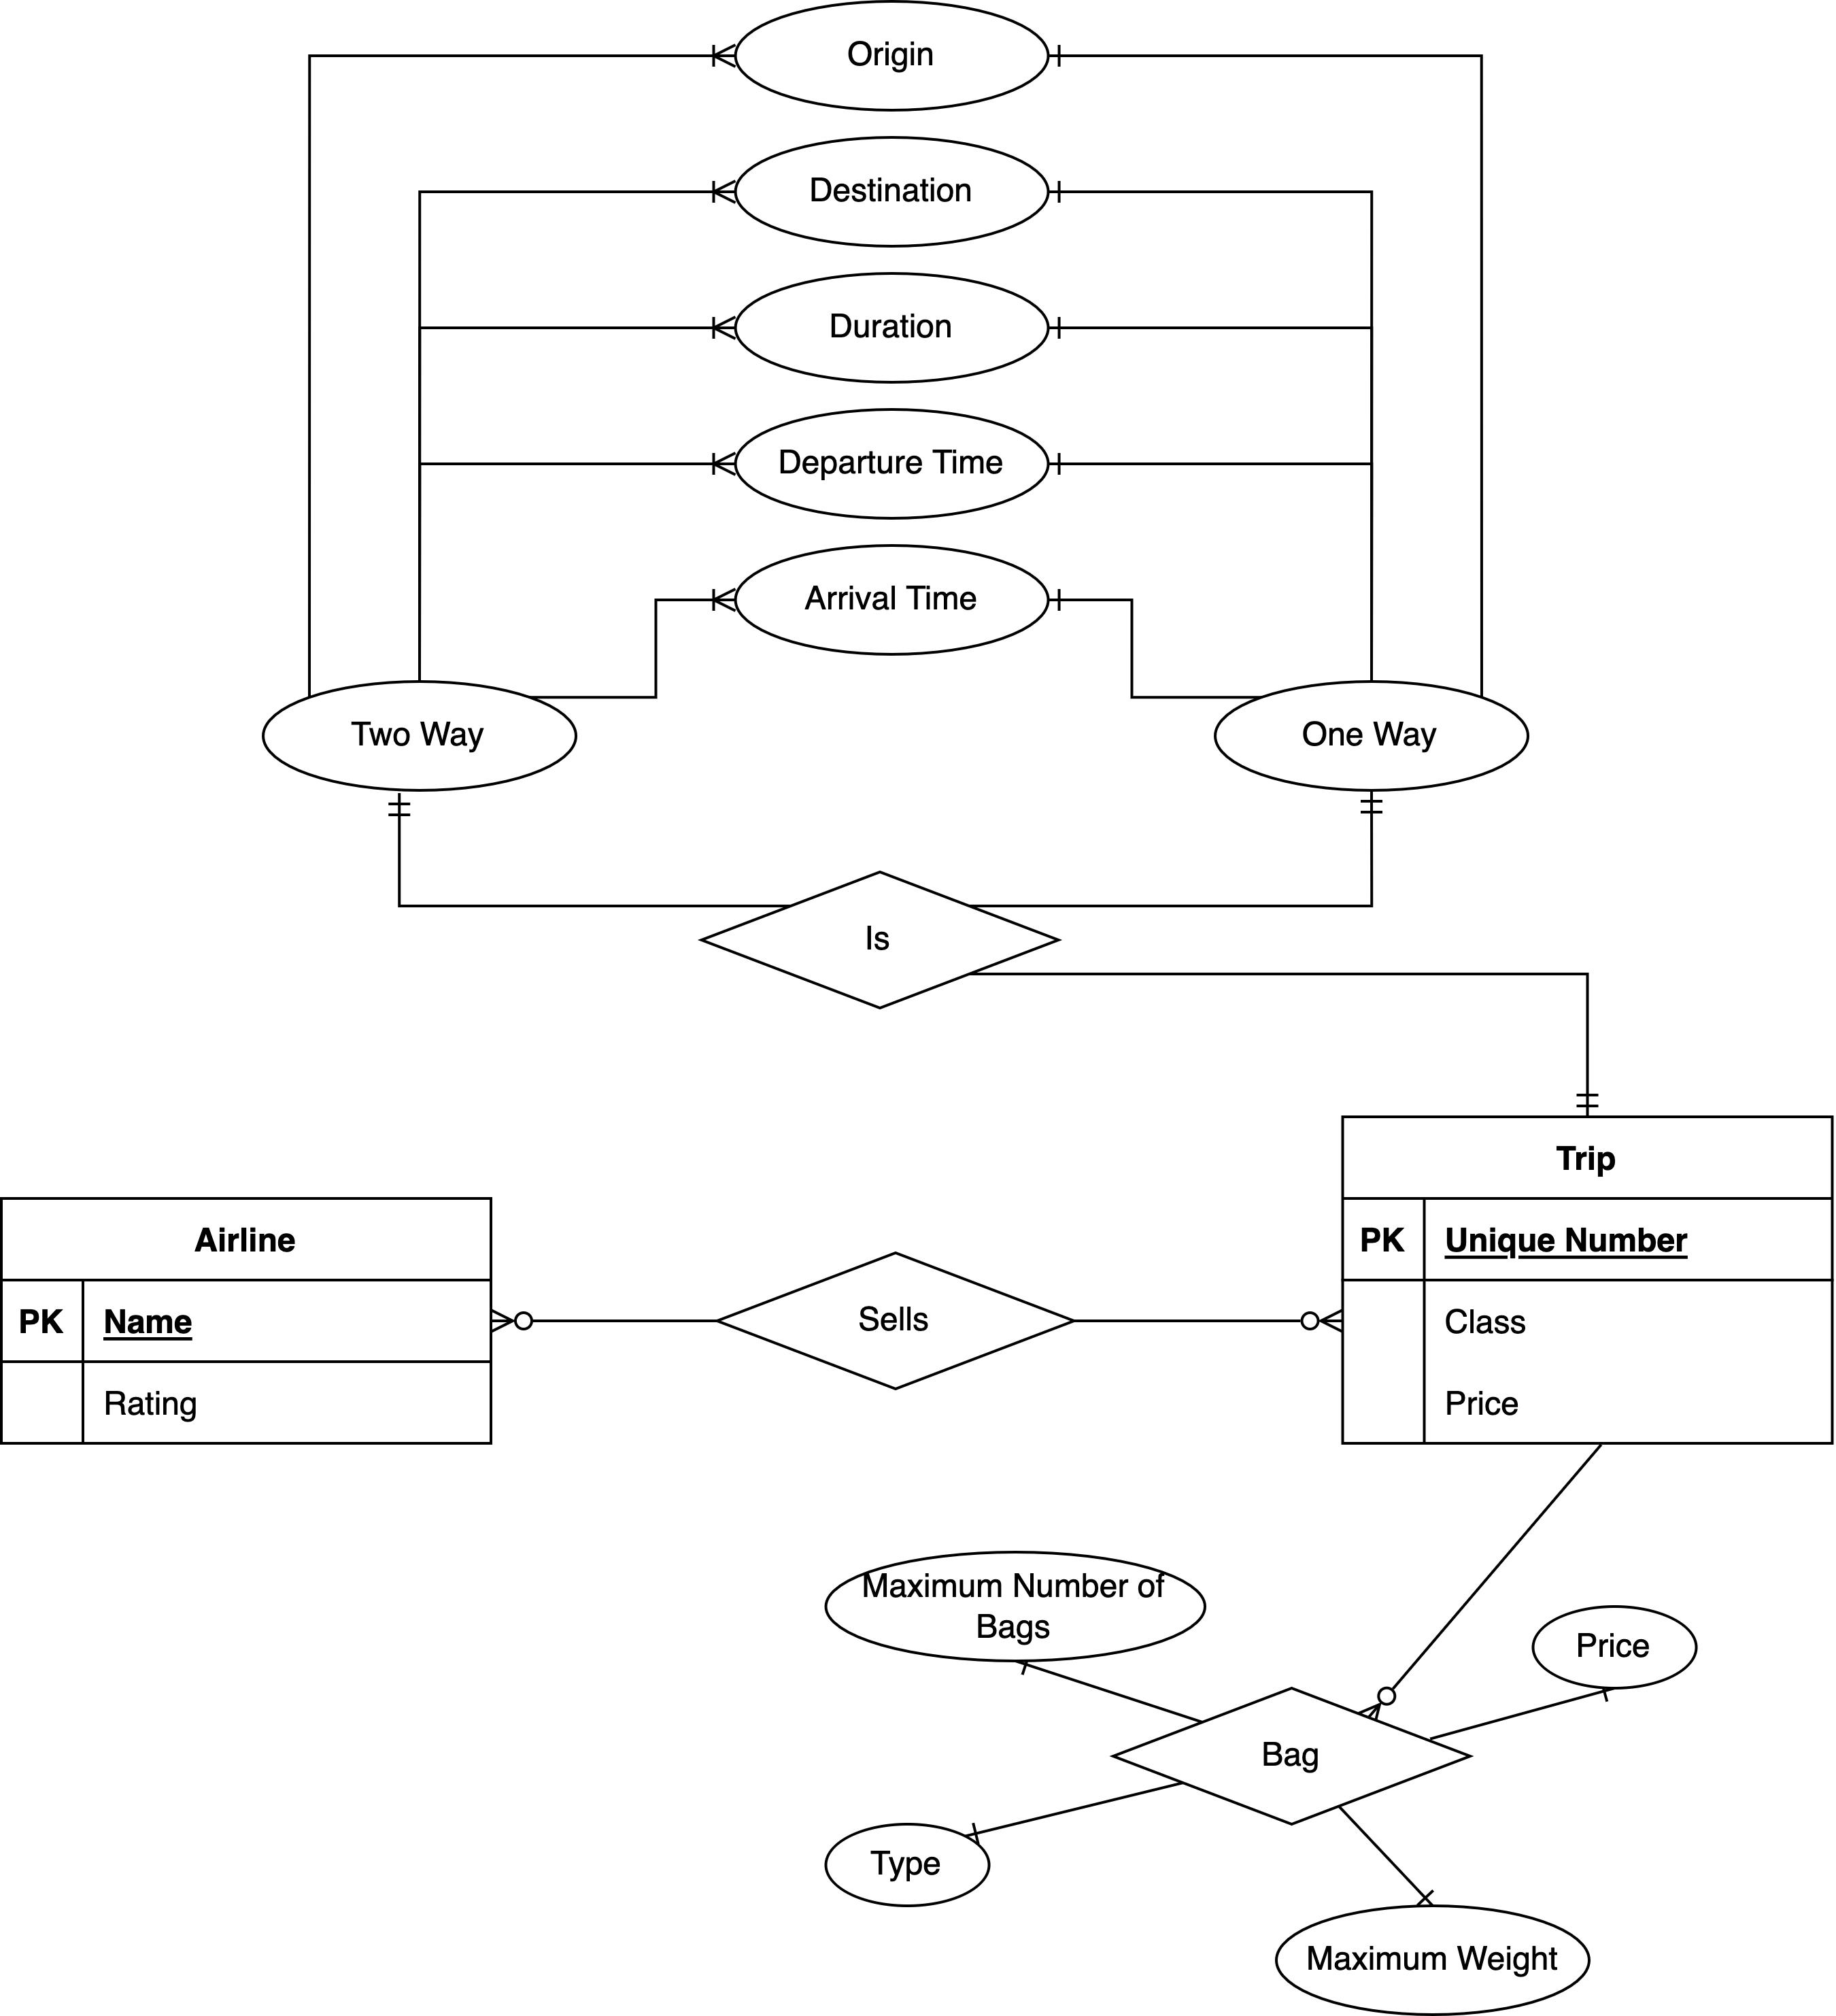attribute: (827, 1551, 1206, 1668), (732, 130, 1048, 249), (732, 274, 1048, 390), (1215, 683, 1527, 797), (1274, 1905, 1592, 2016), (262, 681, 572, 794), (735, 543, 1051, 652), (741, 409, 1044, 522), (730, 5, 1048, 112), (1529, 1609, 1696, 1696), (820, 1826, 986, 1911)
entity: (1336, 1112, 1834, 1456), (0, 1191, 502, 1454)
relationship: (707, 869, 1060, 1006), (1116, 1686, 1469, 1823), (720, 1259, 1069, 1394)
